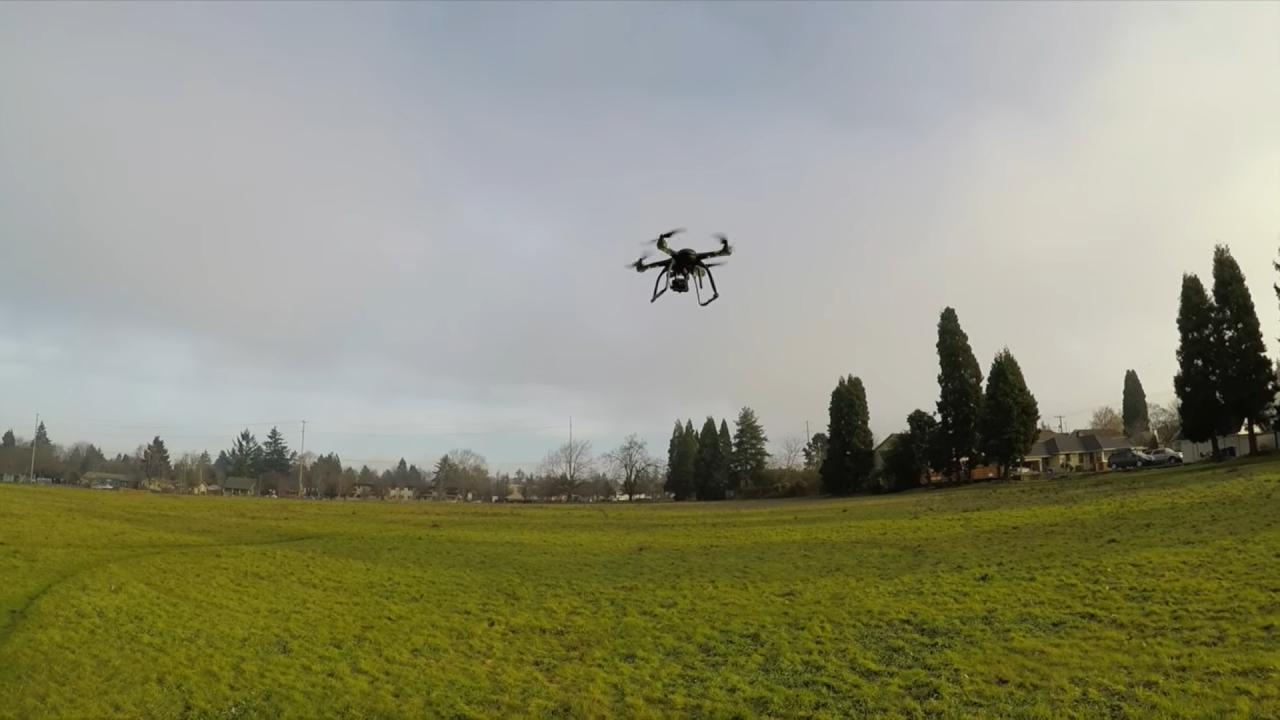Drone: (619, 208, 747, 324)
